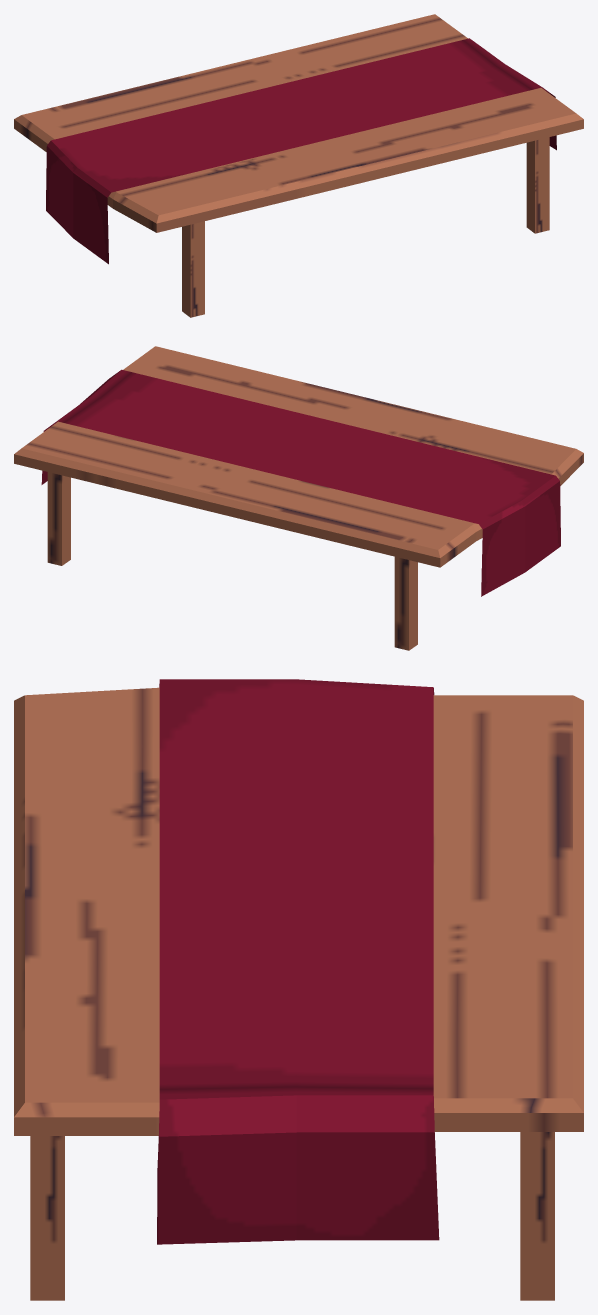
File: Mesa.fbx
3 renders of one model, top to bottom at view 1: azimuth 30°, elevation 25°; view 2: azimuth 150°, elevation 25°; view 3: azimuth 270°, elevation 25°, orthographic. The views are drawn at different scales.
Parts seen in each view (by area): view 1: Mesa; view 2: Mesa; view 3: Mesa.
Part boxes in pixels (x1,y1,x2,y2): Mesa: (14,14,583,317); Mesa: (14,346,583,650); Mesa: (14,679,583,1300).
Bounding box in the file's own units: 369 × 203 × 88.63.
